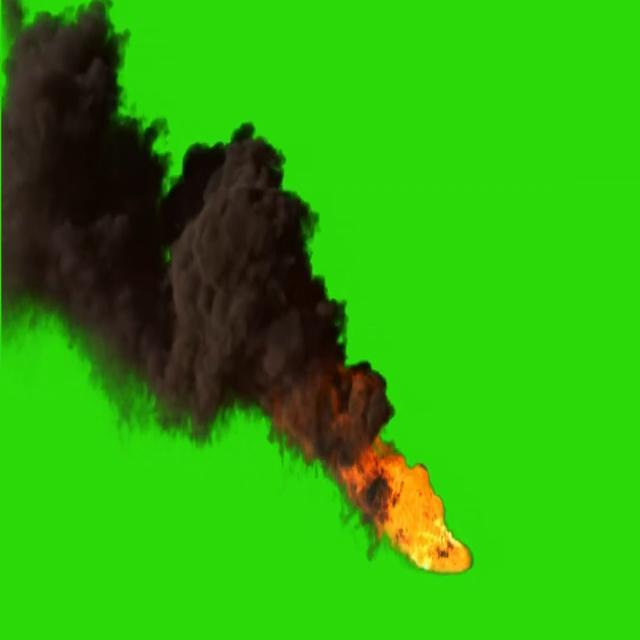Fire: (378, 455, 470, 571)
Smoke: (9, 11, 367, 477)
